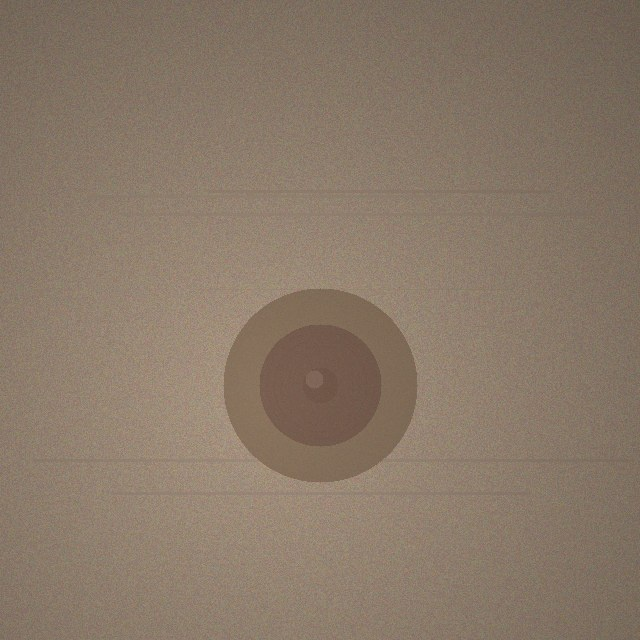good: (223, 288, 417, 482)
